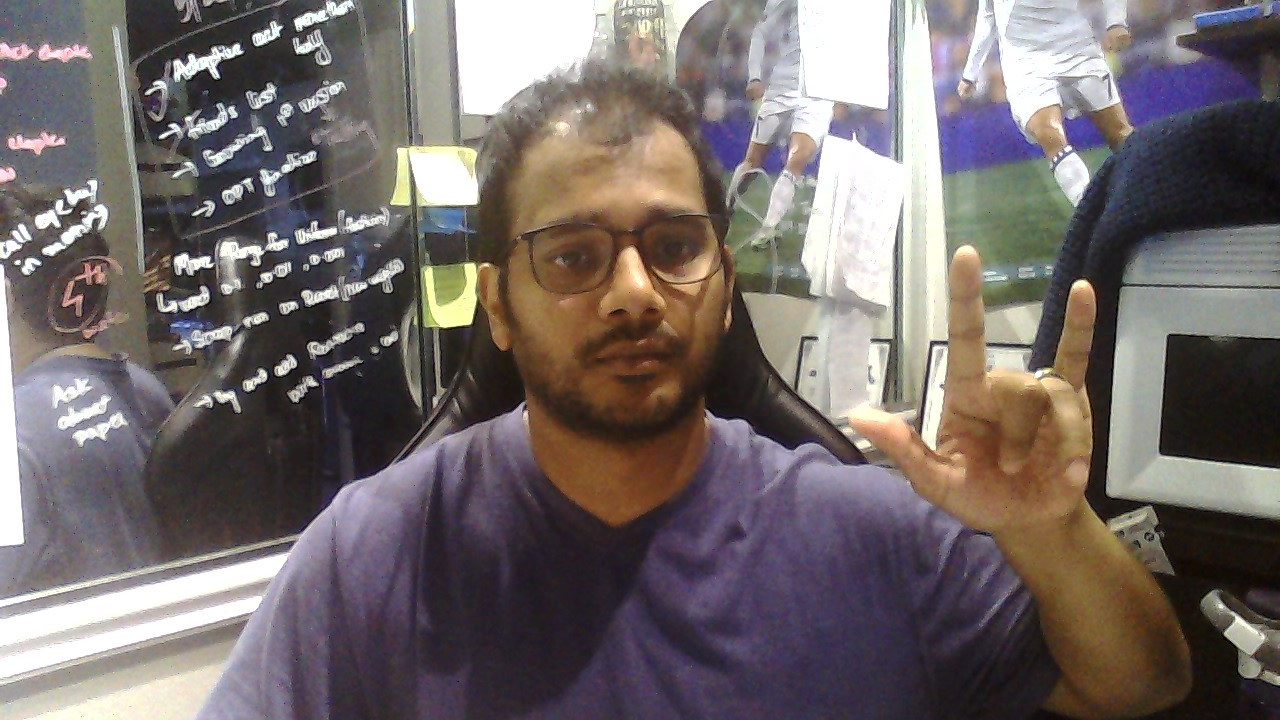ILoveYou: (850, 244, 1095, 530)
